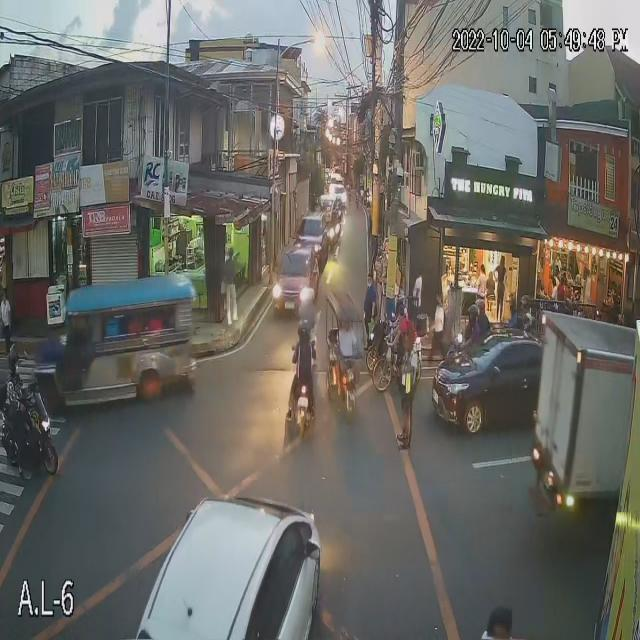helmet: (291, 318, 318, 344), (5, 345, 26, 377), (472, 297, 491, 321), (464, 301, 478, 329)
motorcycle: (0, 397, 64, 476), (284, 367, 320, 437)
rider: (0, 345, 34, 443), (282, 320, 319, 399), (469, 292, 497, 354), (453, 303, 480, 364)
